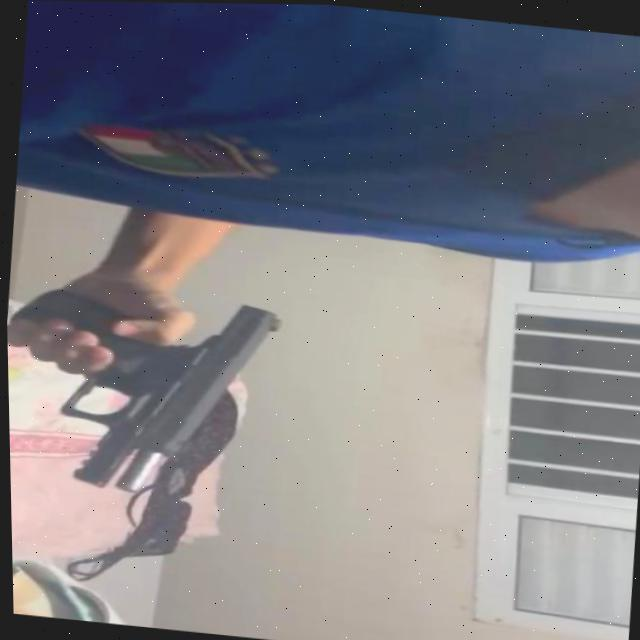gun: (5, 280, 286, 506)
